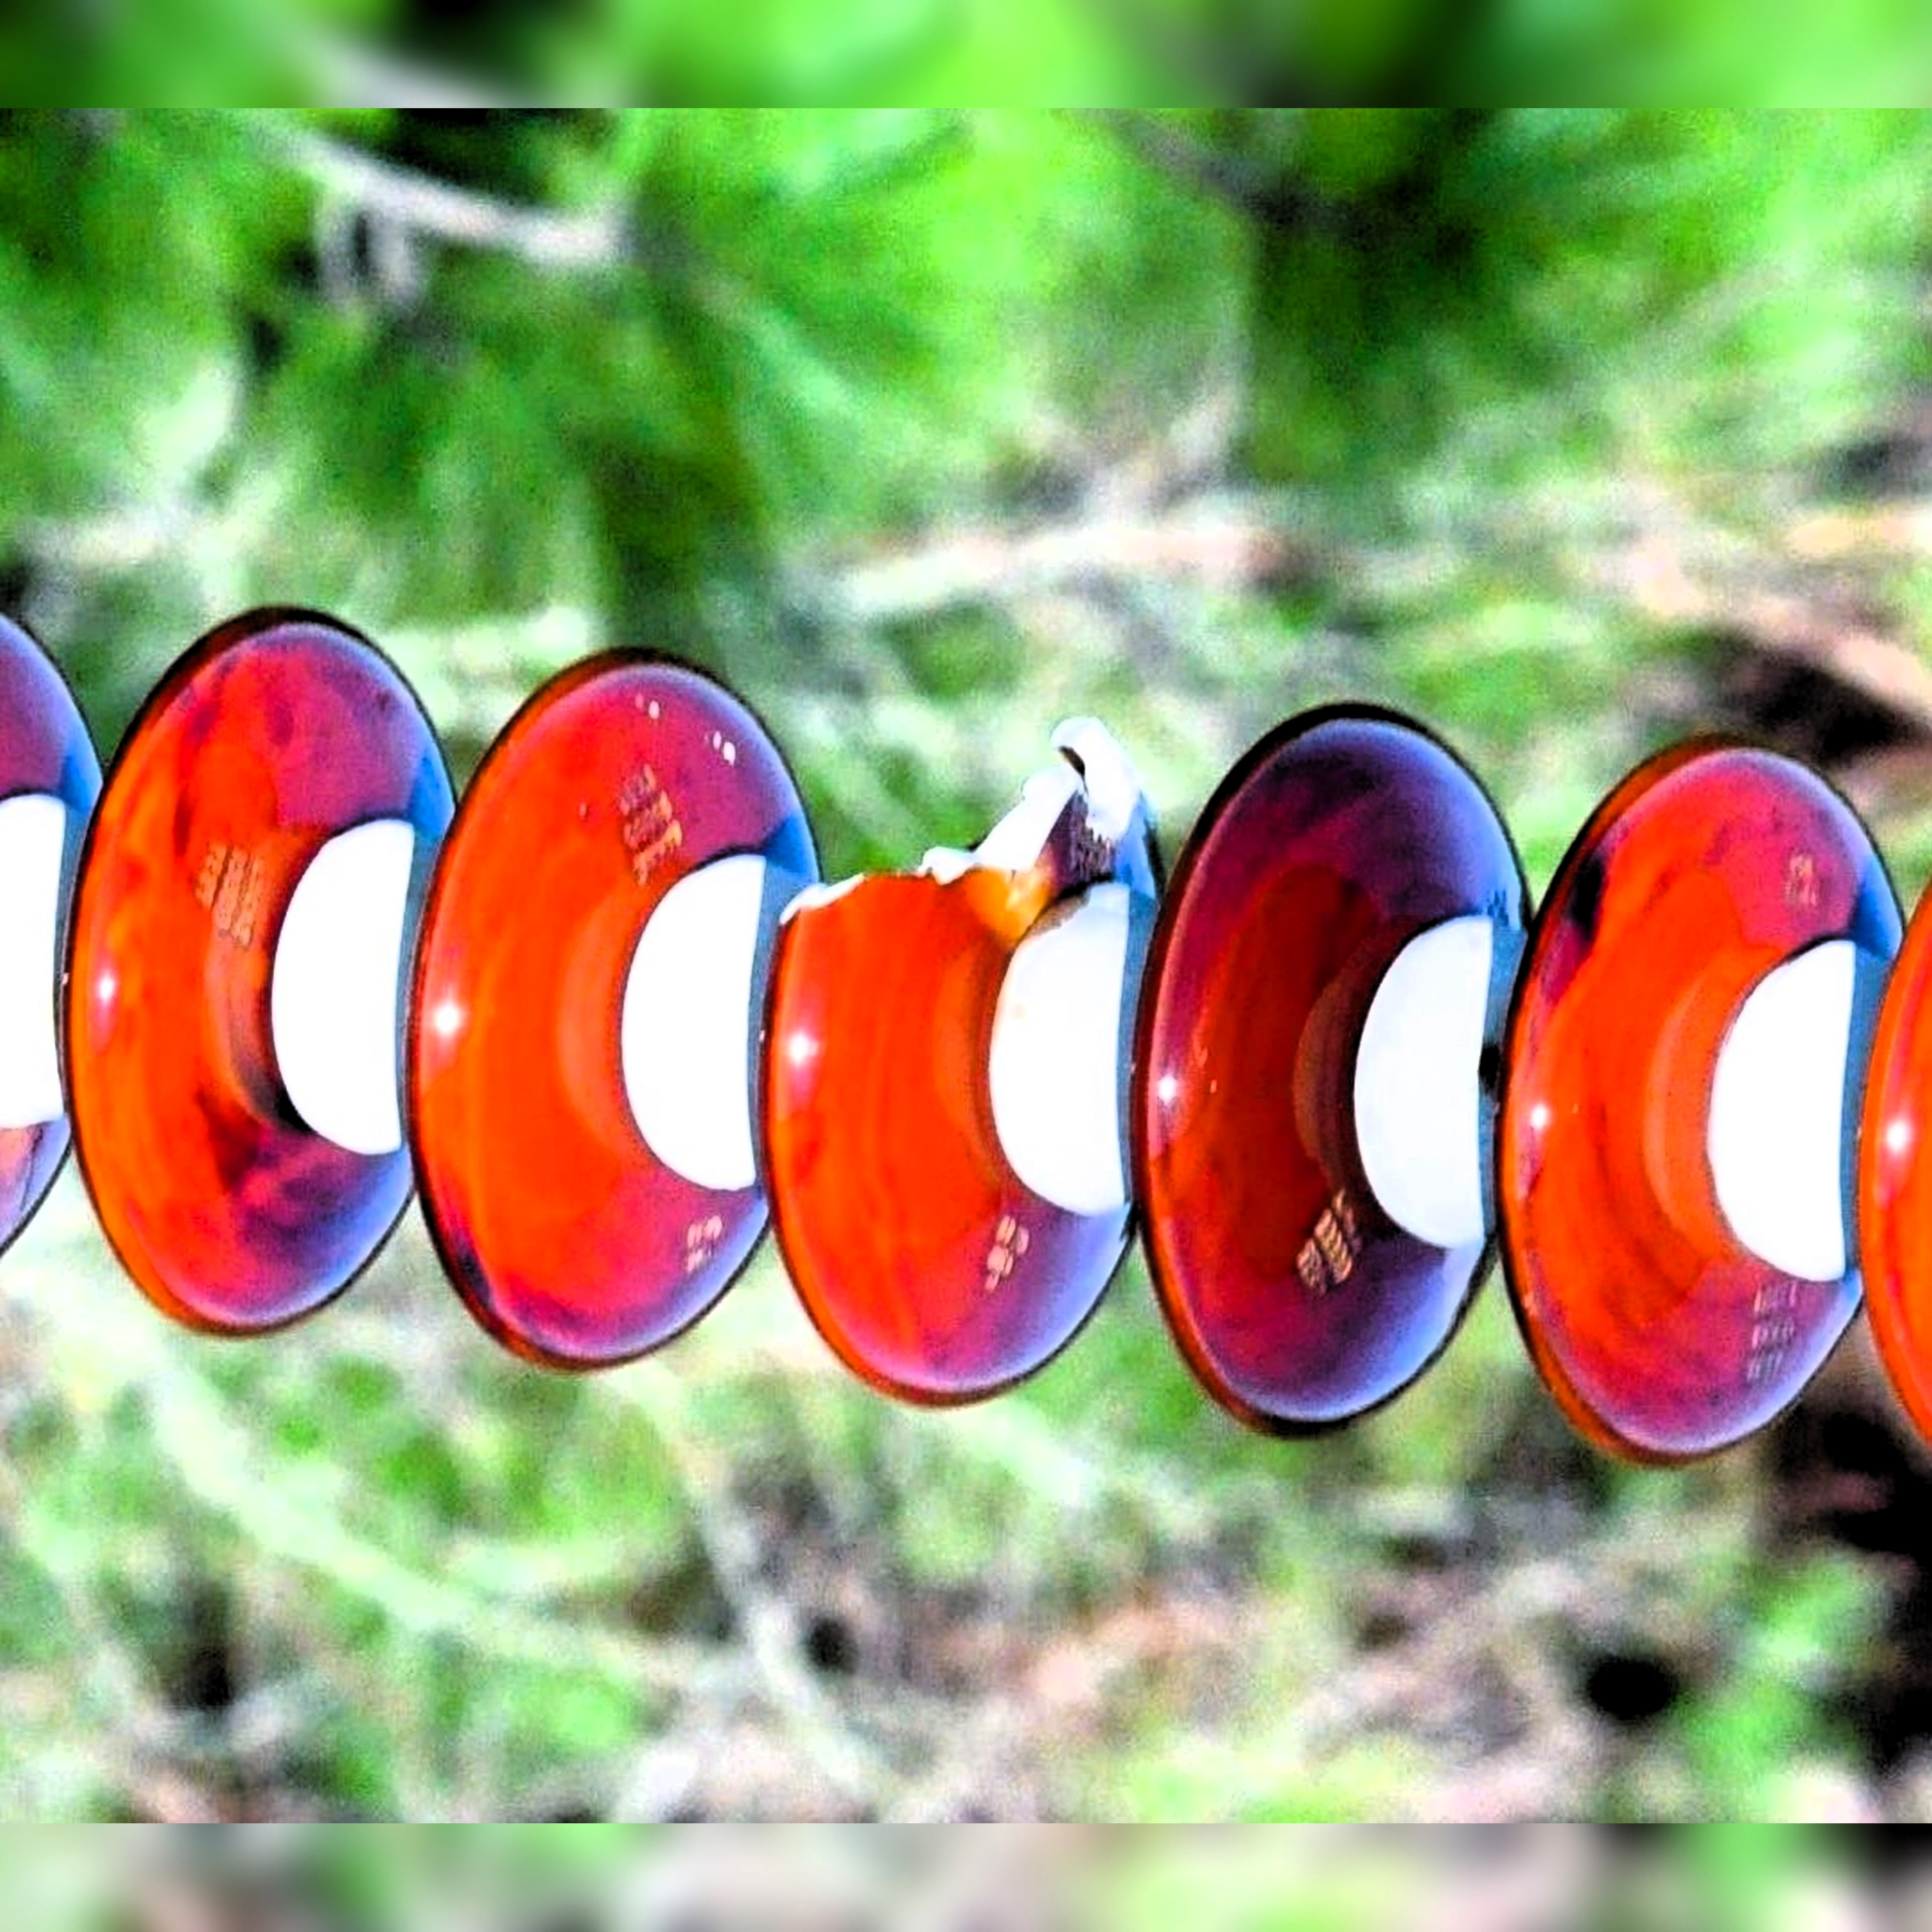insulator breakage: (724, 704, 1168, 1447)
